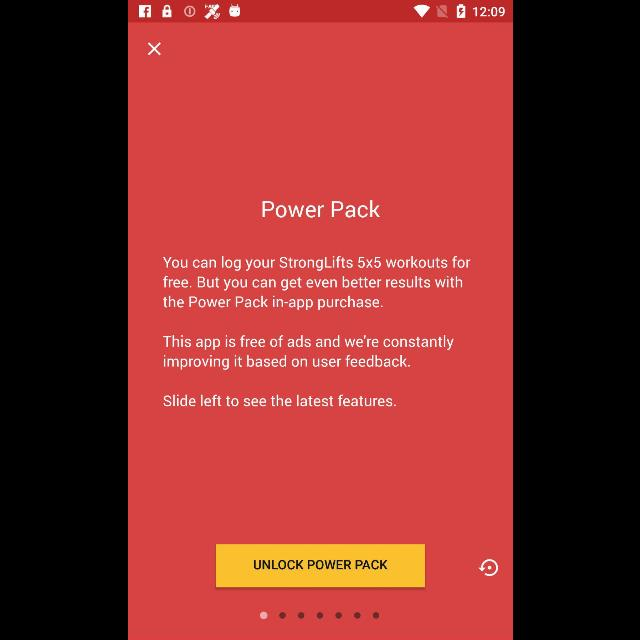icon: (477, 559, 498, 577), (147, 42, 161, 56)
pageindicator: (259, 611, 379, 619)
text: (162, 256, 470, 310), (162, 335, 454, 371), (162, 394, 396, 408), (261, 200, 379, 218)
textbutton: (215, 544, 425, 588)
uppertaskbar: (128, 1, 512, 23)
